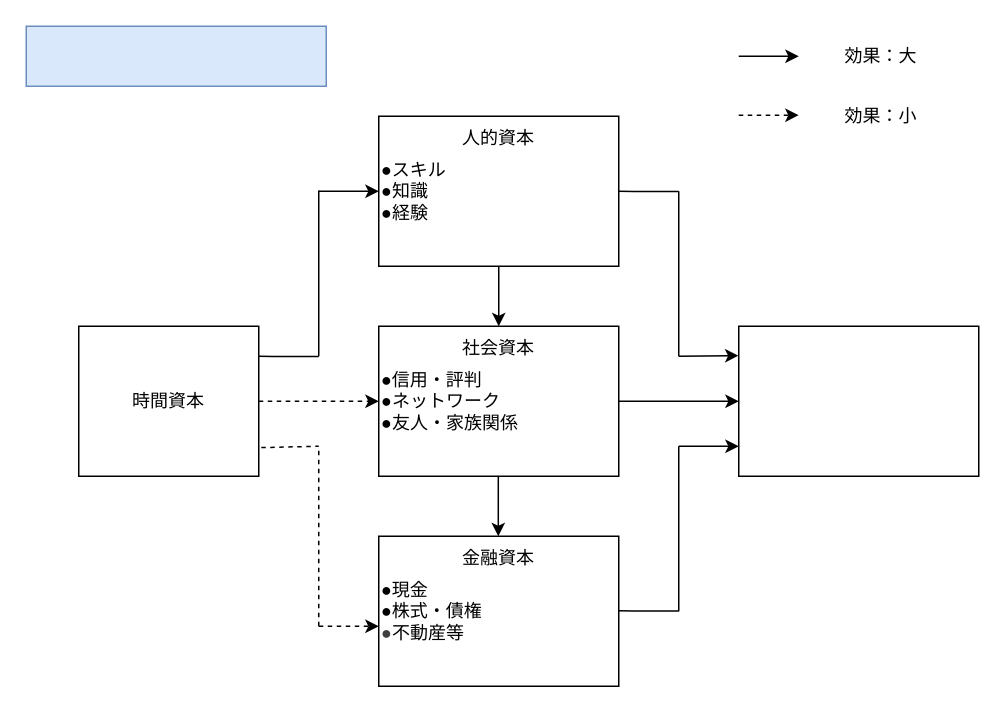
Image size: 1005x713. Some labels were removed from this diagram. The shapes that lost their labels are listed below. From the top down, each one's centre as x and y in pixels, then its label:
pixel 175 55: 人生の経営戦略 P55 人生というプロジェクトの原理
pixel 858 400: ウェルビーイング (Well-Being)
